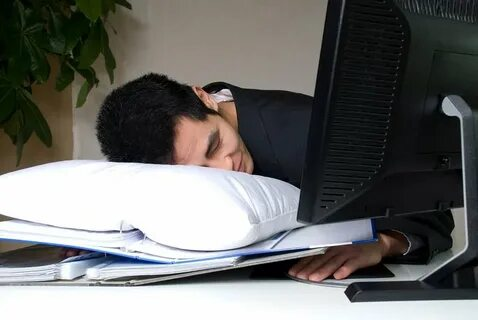sleep: (95, 70, 312, 184)
